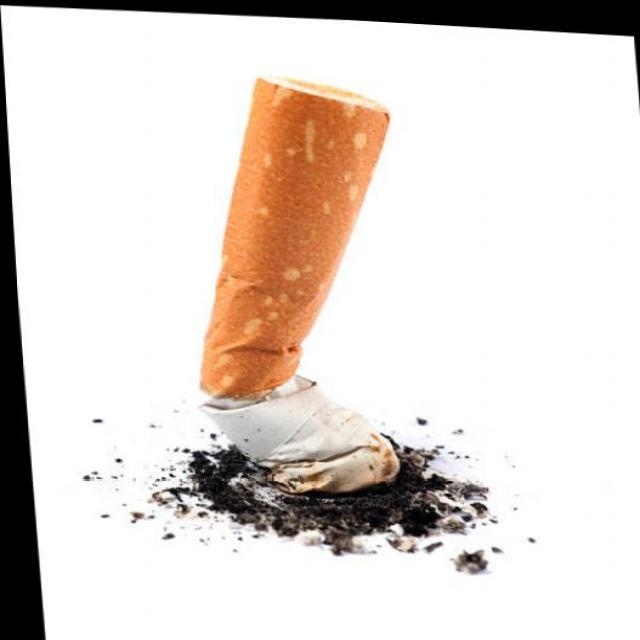cigarette: (164, 54, 420, 510)
